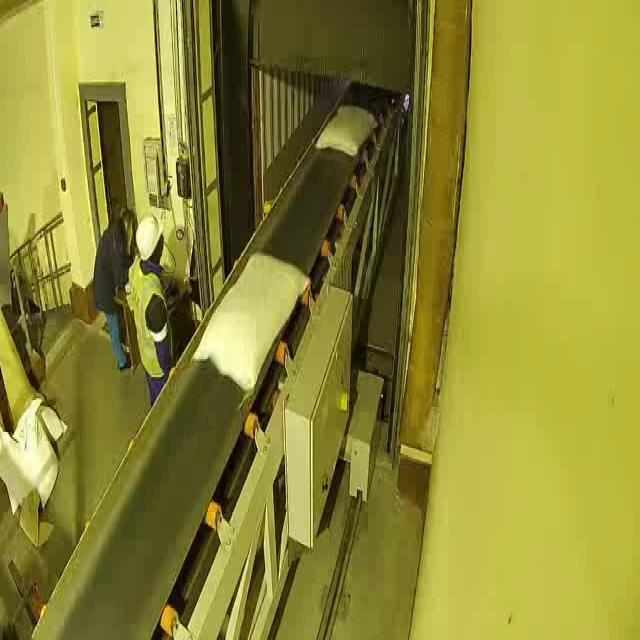bag: (191, 245, 310, 395), (314, 100, 377, 158)
